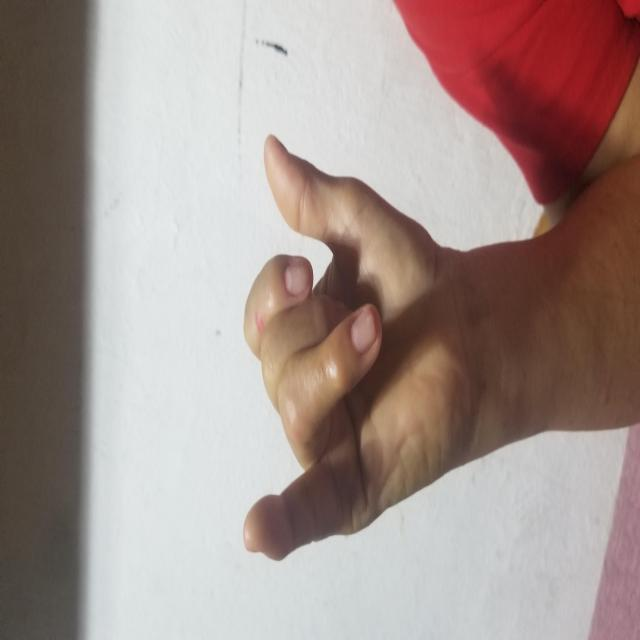Y: (171, 109, 484, 606)
